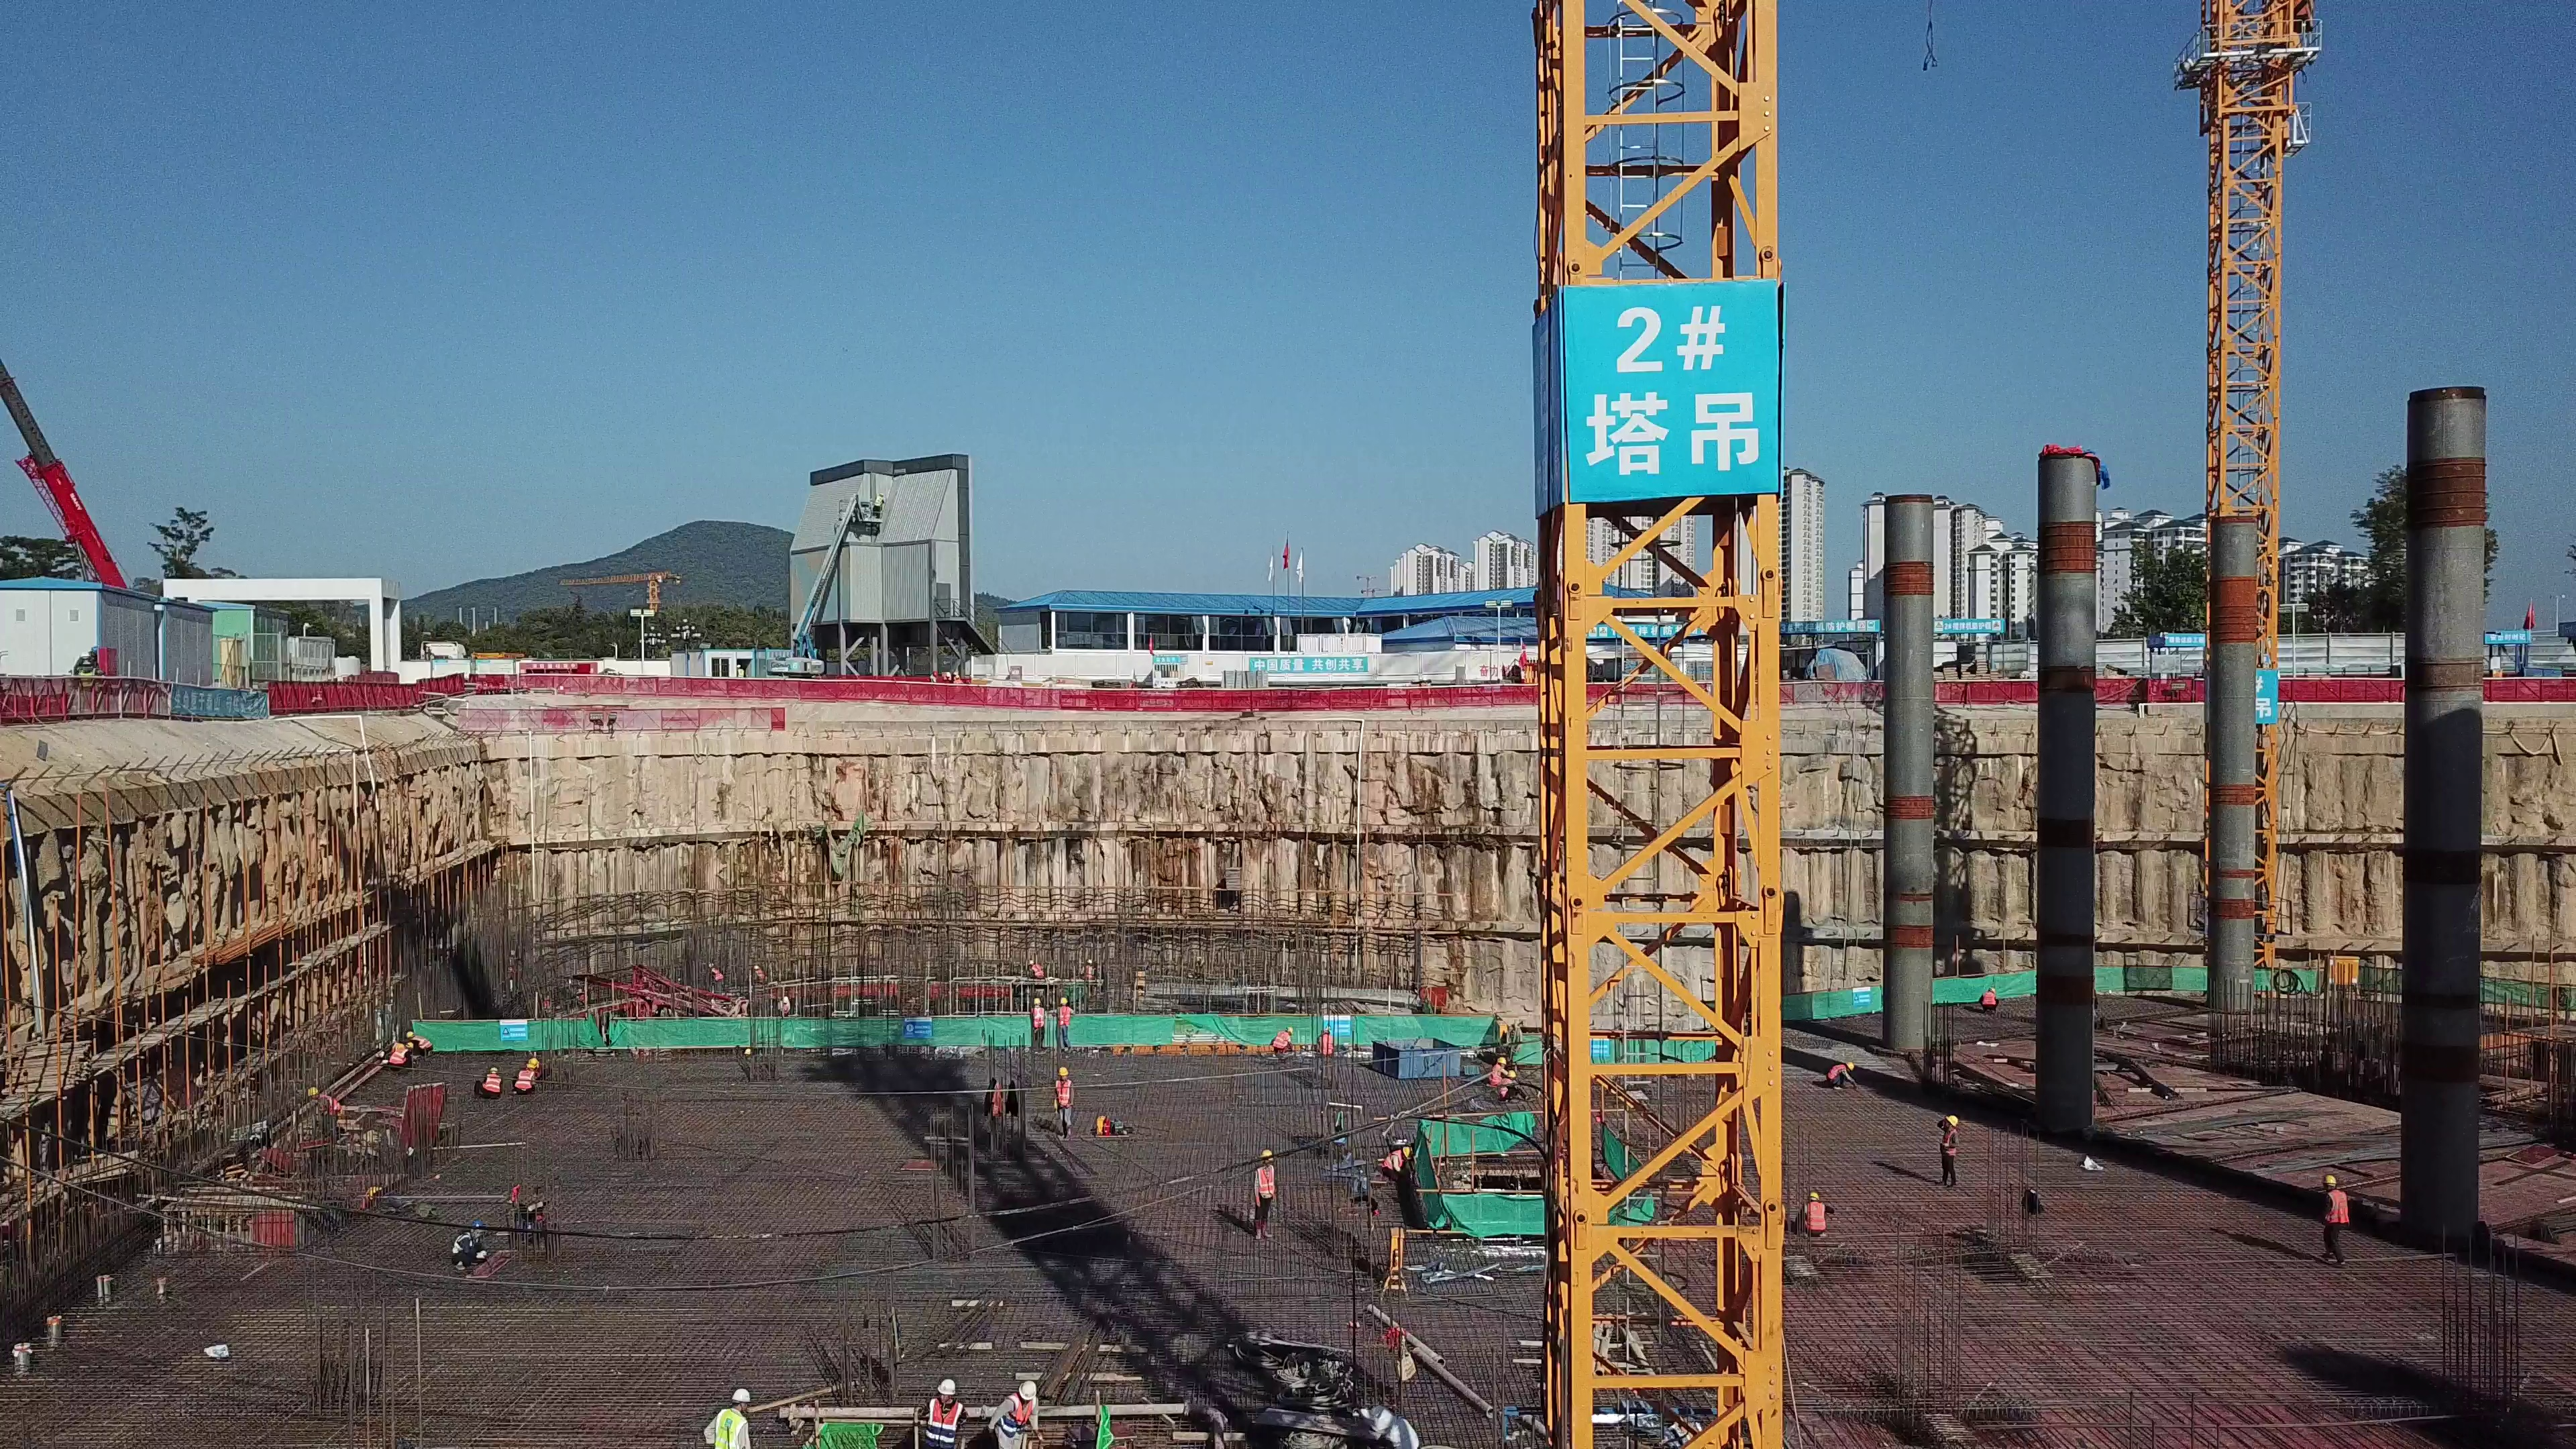helmet: (732, 1388, 752, 1404), (937, 1378, 957, 1394), (1945, 1112, 1959, 1128), (1018, 1379, 1031, 1397), (1057, 995, 1069, 1006), (2325, 1173, 2337, 1186), (1402, 1144, 1412, 1156), (1809, 1189, 1819, 1199), (1846, 1062, 1856, 1070), (309, 1084, 317, 1094), (1057, 1067, 1067, 1075), (1263, 1148, 1273, 1158), (1505, 1070, 1515, 1077), (1986, 986, 1998, 992), (476, 1220, 484, 1230), (1034, 994, 1042, 1002), (531, 1057, 537, 1064), (1498, 1057, 1505, 1062)
person: (986, 1381, 1040, 1449), (917, 1380, 968, 1449), (702, 1388, 752, 1449), (2320, 1175, 2350, 1267), (1252, 1148, 1279, 1240), (1051, 1067, 1077, 1141), (1791, 1193, 1833, 1239), (451, 1221, 488, 1272), (1935, 1116, 1961, 1190), (307, 1085, 339, 1131), (1051, 996, 1075, 1052), (1030, 996, 1049, 1051), (1825, 1062, 1857, 1093), (472, 1067, 502, 1101), (1382, 1146, 1413, 1177), (1500, 1071, 1527, 1102), (407, 1030, 433, 1058), (1271, 1026, 1292, 1058), (1490, 1057, 1509, 1087), (513, 1070, 536, 1093), (388, 1043, 411, 1069), (708, 963, 726, 990), (1980, 987, 1999, 1012), (1317, 1028, 1334, 1055), (1026, 957, 1043, 978), (1081, 960, 1097, 980), (775, 996, 791, 1016), (528, 1057, 541, 1078), (752, 963, 766, 982), (929, 669, 937, 683), (954, 672, 962, 683), (735, 663, 743, 676), (944, 672, 951, 680)
vest: (928, 1396, 957, 1449), (999, 1394, 1031, 1437), (714, 1409, 738, 1449), (1253, 1163, 1275, 1197), (2326, 1191, 2349, 1224), (1805, 1201, 1824, 1231), (1382, 1148, 1404, 1170), (1055, 1080, 1072, 1106), (1941, 1129, 1955, 1157), (1273, 1030, 1289, 1051), (323, 1091, 339, 1114), (415, 1036, 433, 1051), (517, 1071, 530, 1090), (1320, 1035, 1333, 1053), (1829, 1064, 1842, 1080), (1033, 1007, 1042, 1027), (1491, 1063, 1500, 1085), (485, 1077, 499, 1089), (1060, 1009, 1069, 1024), (1984, 989, 1993, 1004), (391, 1051, 405, 1060)
